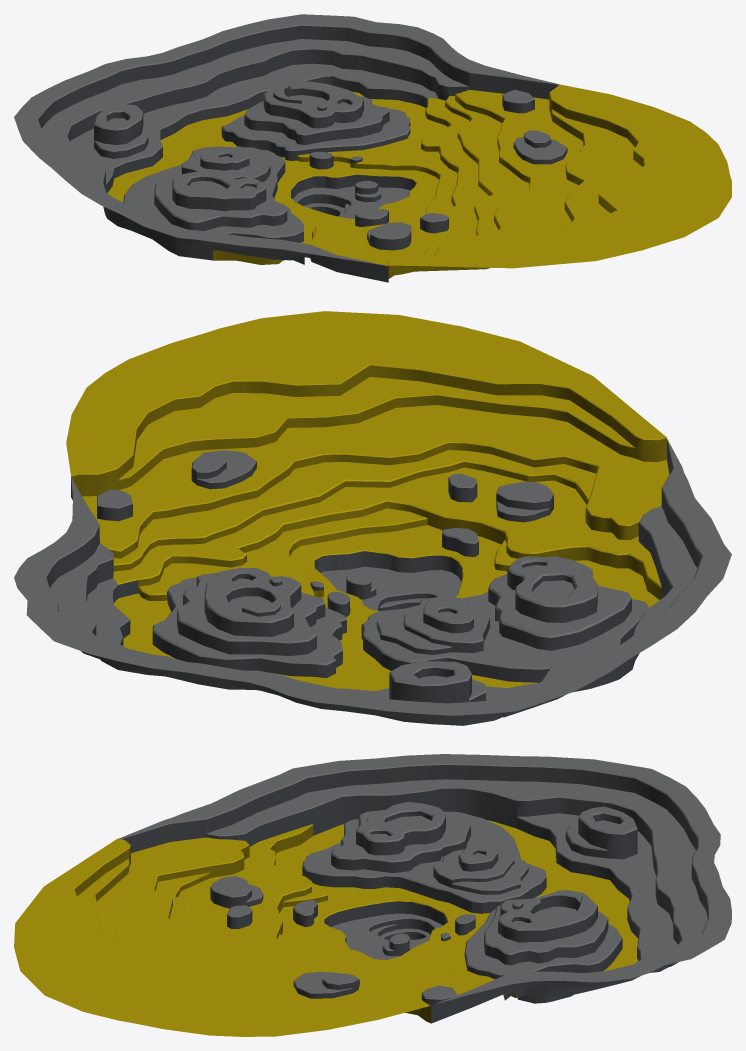
The model's file is enviroment base 7.fbx.
3 views of the same model, one above another, from view 1: azimuth 30°, elevation 25°; view 2: azimuth 150°, elevation 25°; view 3: azimuth 270°, elevation 25° (orthographic). The views are drawn at different scales.
Parts seen in each view (by area): view 1: pCylinder1; view 2: pCylinder1; view 3: pCylinder1.
Boxes of the visible parts, left/top/right/bottom form: pCylinder1: left=14, top=14, right=731, bottom=282; pCylinder1: left=14, top=311, right=731, bottom=725; pCylinder1: left=14, top=754, right=731, bottom=1036.
Size of the model in its own units: 212 by 26.41 by 228.
